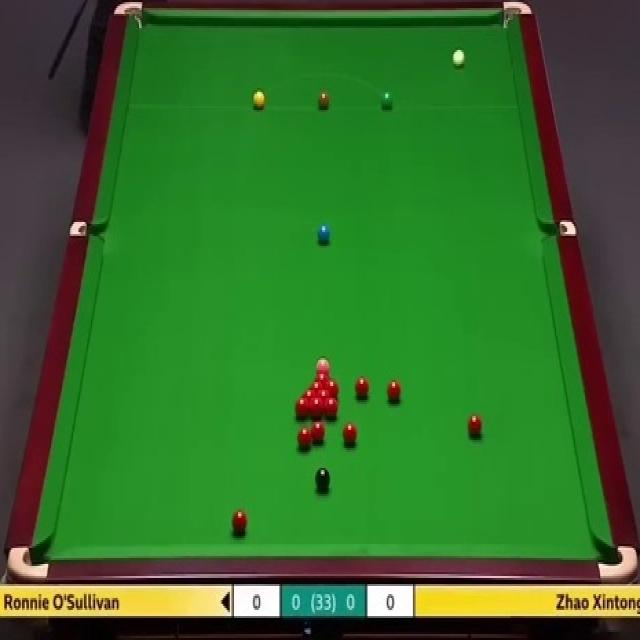black-ball: (315, 466, 332, 493)
blue-ball: (315, 222, 330, 245)
brown-ball: (317, 90, 330, 110)
green-ball: (380, 89, 393, 110)
pink-ball: (314, 355, 332, 372)
red-ball: (467, 412, 484, 441), (341, 422, 359, 449), (386, 381, 403, 405), (354, 376, 370, 401), (296, 426, 312, 451), (230, 510, 246, 534), (323, 398, 338, 420), (310, 423, 326, 442), (295, 399, 309, 420), (310, 398, 324, 418), (325, 381, 338, 399), (315, 388, 331, 402), (300, 390, 316, 402), (309, 380, 324, 390), (315, 372, 329, 382)
white-ball: (452, 46, 466, 69)
yellow-ball: (253, 90, 265, 110)
